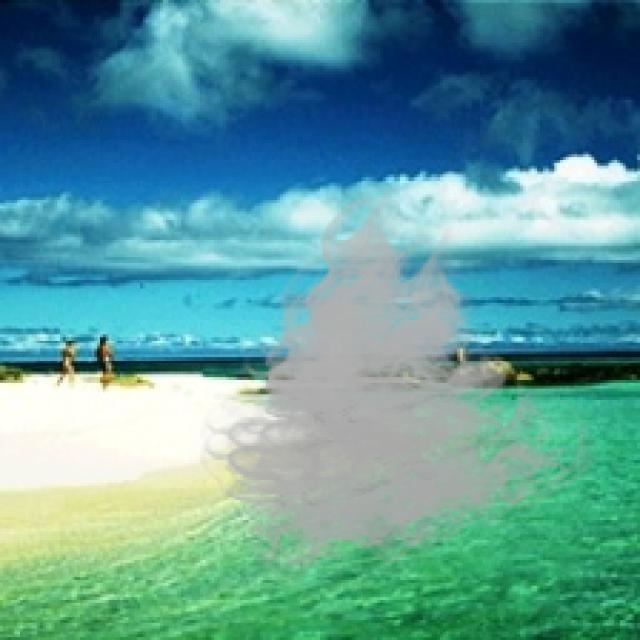smoke: (189, 186, 600, 591)
